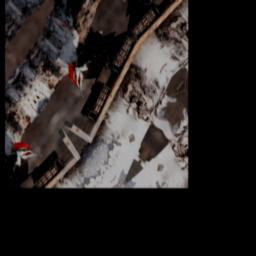Woodpecker: (59, 16, 129, 104)
